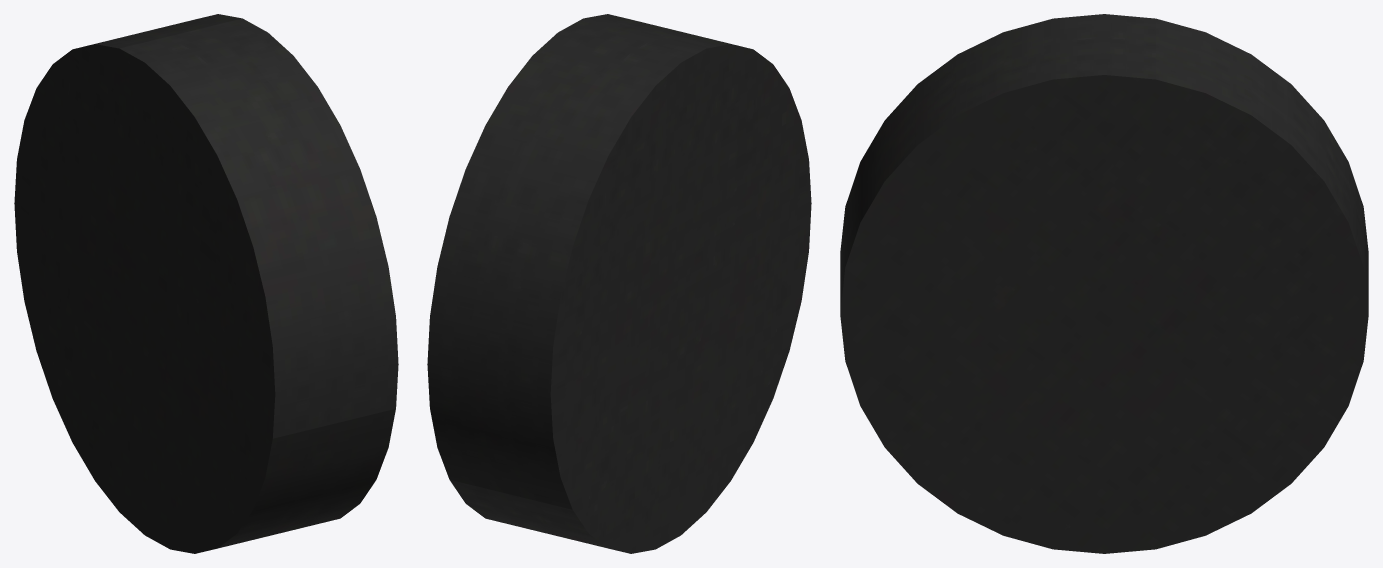
The model's file is caster_1_0__tire.glb.
3 views of the same model, side by side, from view 1: azimuth 30°, elevation 25°; view 2: azimuth 150°, elevation 25°; view 3: azimuth 270°, elevation 25° (orthographic).
Visible parts, largest first — view 1: geometry_0; view 2: geometry_0; view 3: geometry_0.
Boxes of the visible parts, left/top/right/bottom form: geometry_0: left=14, top=14, right=398, bottom=553; geometry_0: left=427, top=14, right=811, bottom=553; geometry_0: left=840, top=14, right=1368, bottom=553.
Bounding box in the file's own units: 0.012 × 0.044 × 0.044.
Materials: 1 (1 with a texture image).
